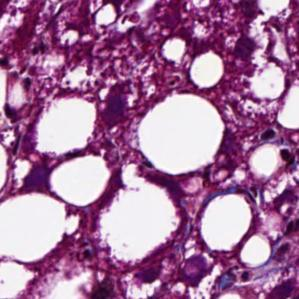inflammation: (94, 72, 141, 131), (258, 179, 299, 238), (224, 28, 263, 70)
